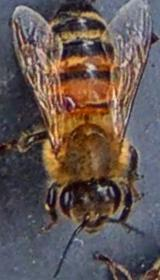varroa_mite: (46, 86, 88, 123)
